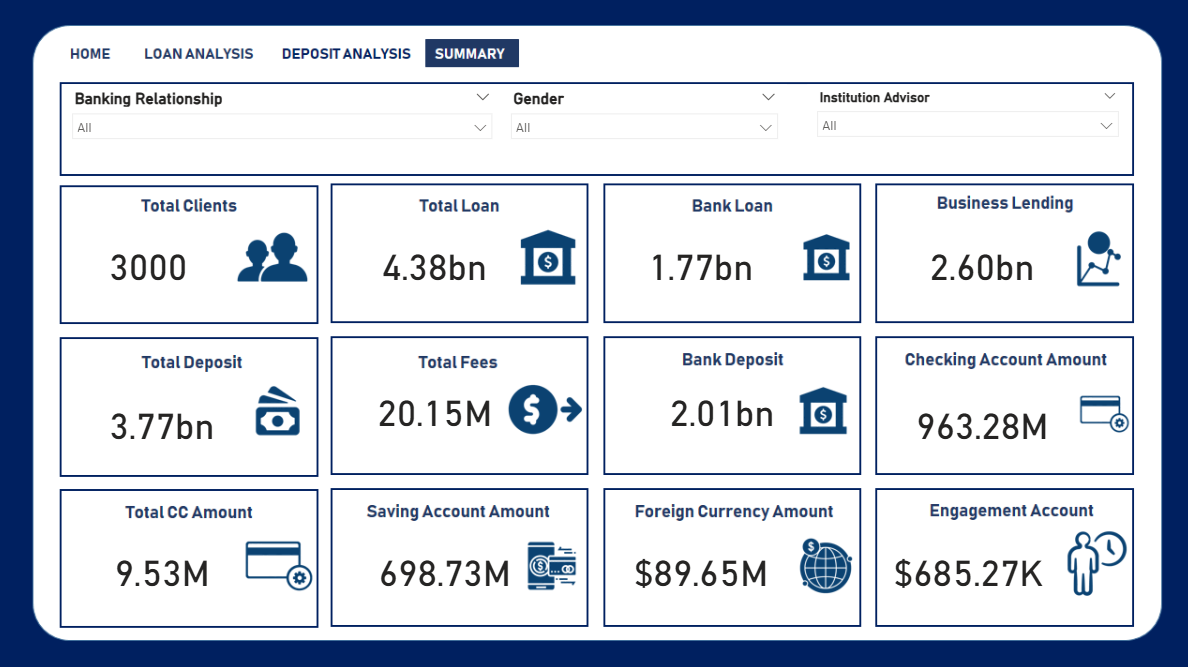

This screenshot's page, from the dashboard's own definition file:
{"tool":"powerbi","page":{"name":"Summary","canvas":[1280,720],"ordinal":3},"visuals":[{"type":"slicer","fields":{"Values":["banking_case customer.BRId"]},"box":[71.7,91.7,468.3,88.3],"z":0},{"type":"slicer","fields":{"Values":["banking_case customer.GenderId"]},"box":[540,91.7,305,88.3],"z":1000},{"type":"slicer","fields":{"Values":["banking_case customer.IAId"]},"box":[866.7,91.7,341.7,88.3],"z":2000},{"type":"card","fields":{"Values":["CountNonNull(banking_case customer.Name)"]},"box":[71.7,235,183.3,98.3],"z":3000},{"type":"card","fields":{"Values":["banking_case customer.Total Loan"]},"box":[376.7,235,183.3,98.3],"z":4000},{"type":"card","fields":{"Values":["banking_case customer.Total Deposit"]},"box":[86.7,403.3,183.3,98.3],"z":5000},{"type":"card","fields":{"Values":["banking_case customer.Total Fees"]},"box":[376.7,390,183.3,98.3],"z":6000},{"type":"card","fields":{"Values":["Sum(banking_case customer.Bank Loans)"]},"box":[661.7,235,183.3,98.3],"z":7000},{"type":"card","fields":{"Values":["Sum(banking_case customer.Bank Deposits)"]},"box":[683.3,390,183.3,98.3],"z":8000},{"type":"card","fields":{"Values":["banking_case customer.Total CC Amount"]},"box":[86.7,561.7,183.3,98.3],"z":9000},{"type":"card","fields":{"Values":["banking_case customer.Saving Account Amount"]},"box":[388.3,561.7,183.3,98.3],"z":10000},{"type":"card","fields":{"Values":["Sum(banking_case customer.Foreign Currency Account)"]},"box":[661.7,561.7,183.3,98.3],"z":11000},{"type":"card","fields":{"Values":["Sum(banking_case customer.Business Lending)"]},"box":[961.7,235,183.3,98.3],"z":12000},{"type":"card","fields":{"Values":["Sum(banking_case customer.Checking Accounts)"]},"box":[961.7,403.3,183.3,98.3],"z":13000},{"type":"card","fields":{"Values":["banking_case customer.Engagement Account"]},"box":[946.7,561.7,183.3,98.3],"z":14000},{"type":"actionButton","box":[63.3,40,81.7,36.7],"z":14001},{"type":"actionButton","box":[145,40,143.3,36.7],"z":14002},{"type":"actionButton","box":[288.3,36.7,163.3,40],"z":14003}]}

Visuals, with their boxes in screenshot pixels (x1, y1, x2, y2), scaled from the page's 1280x720 canvas onto the 1188x667 screenshot:
slicer - banking_case customer.BRId: left=67, top=85, right=501, bottom=167
slicer - banking_case customer.GenderId: left=501, top=85, right=784, bottom=167
slicer - banking_case customer.IAId: left=804, top=85, right=1122, bottom=167
card - CountNonNull(banking_case customer.Name): left=67, top=218, right=237, bottom=309
card - banking_case customer.Total Loan: left=350, top=218, right=520, bottom=309
card - banking_case customer.Total Deposit: left=80, top=374, right=251, bottom=465
card - banking_case customer.Total Fees: left=350, top=361, right=520, bottom=452
card - Sum(banking_case customer.Bank Loans): left=614, top=218, right=784, bottom=309
card - Sum(banking_case customer.Bank Deposits): left=634, top=361, right=804, bottom=452
card - banking_case customer.Total CC Amount: left=80, top=520, right=251, bottom=611
card - banking_case customer.Saving Account Amount: left=360, top=520, right=531, bottom=611
card - Sum(banking_case customer.Foreign Currency Account): left=614, top=520, right=784, bottom=611
card - Sum(banking_case customer.Business Lending): left=893, top=218, right=1063, bottom=309
card - Sum(banking_case customer.Checking Accounts): left=893, top=374, right=1063, bottom=465
card - banking_case customer.Engagement Account: left=879, top=520, right=1049, bottom=611
actionButton: left=59, top=37, right=135, bottom=71
actionButton: left=135, top=37, right=268, bottom=71
actionButton: left=268, top=34, right=419, bottom=71
